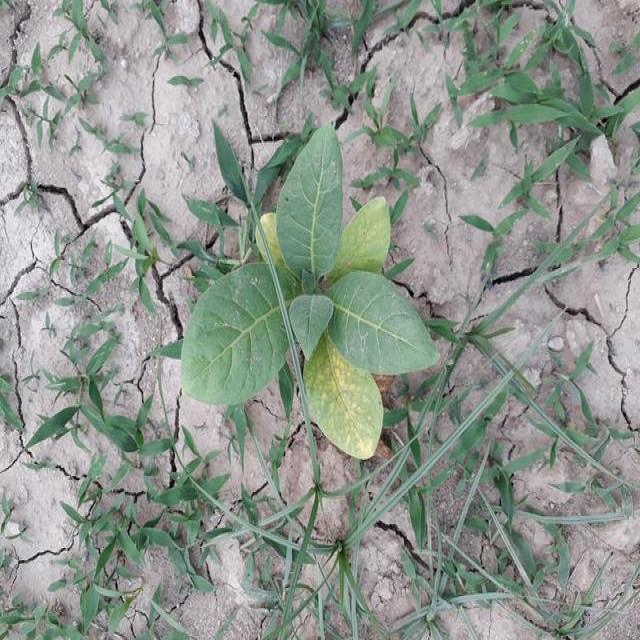crop: (172, 138, 436, 462)
